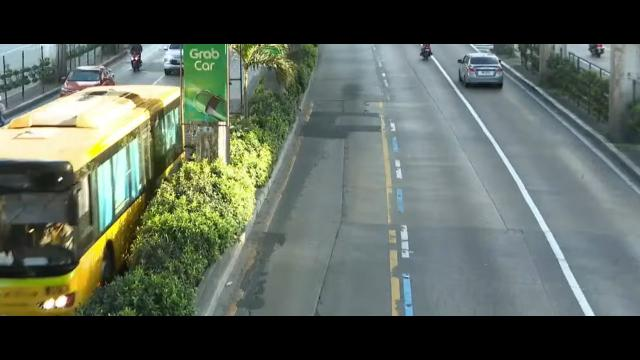bus: (0, 83, 199, 315)
car: (459, 49, 507, 94), (60, 64, 121, 92)
motorcycle: (128, 44, 144, 72), (419, 44, 434, 63)
